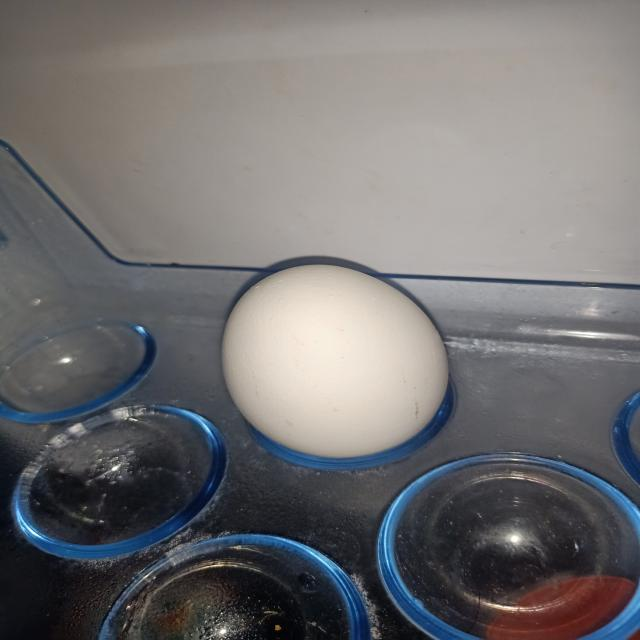Egg: (210, 248, 477, 470)
